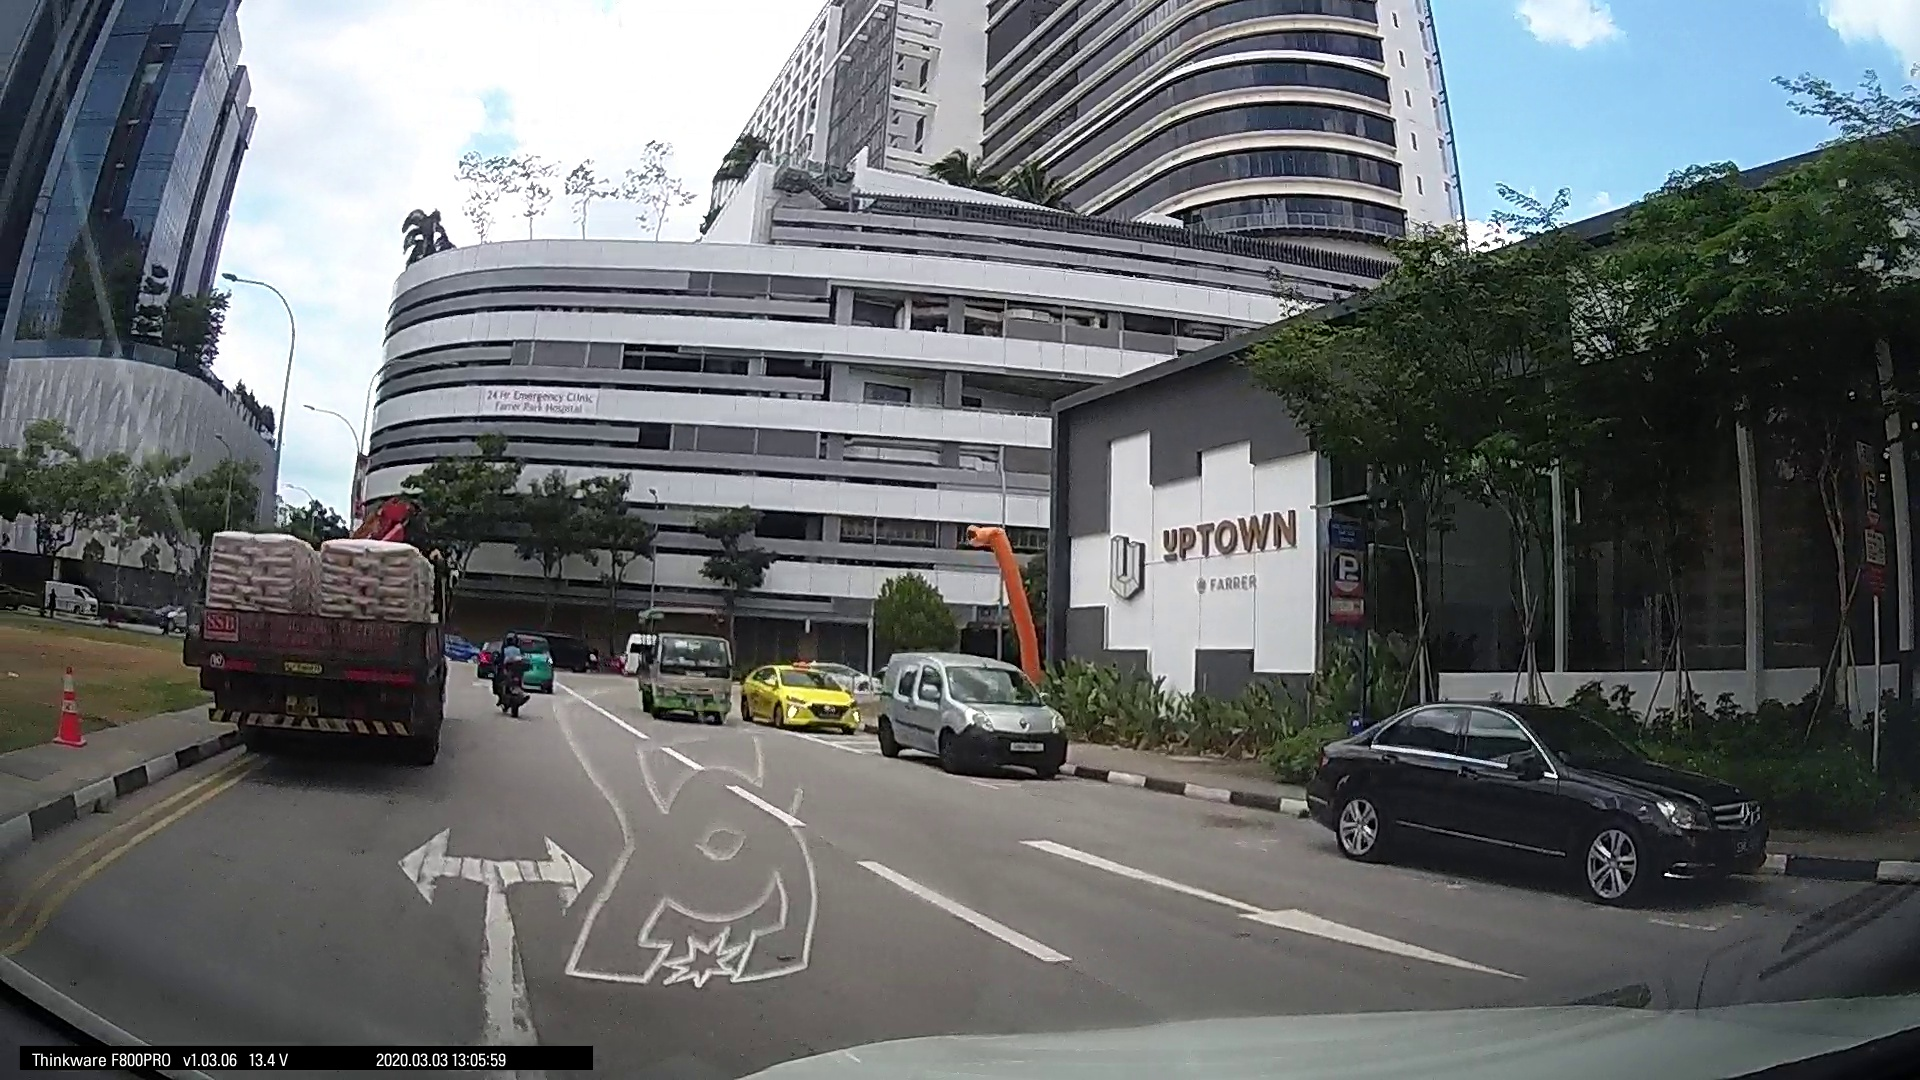Heavy Vehicle: (160, 305, 760, 881), (856, 571, 985, 719), (1245, 617, 1344, 717)
Light Vehicle: (1607, 670, 1834, 818), (1820, 687, 1919, 856), (760, 644, 886, 767), (1021, 626, 1064, 679), (1121, 638, 1163, 678)
